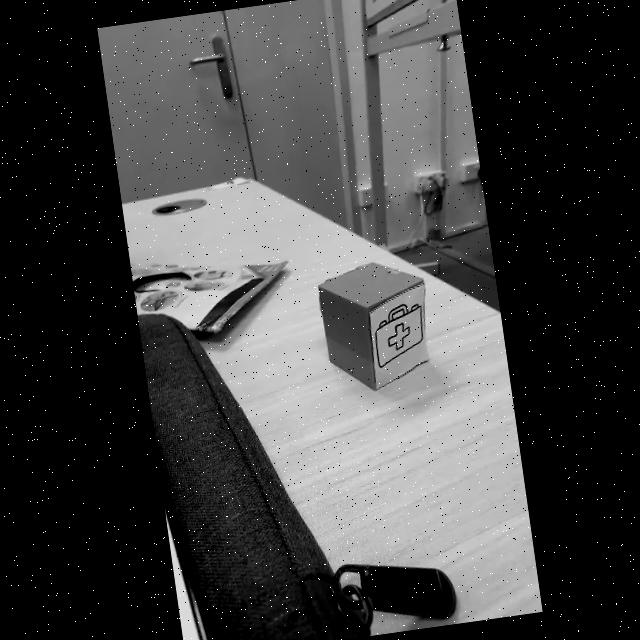Medkit: (375, 304, 424, 368)
